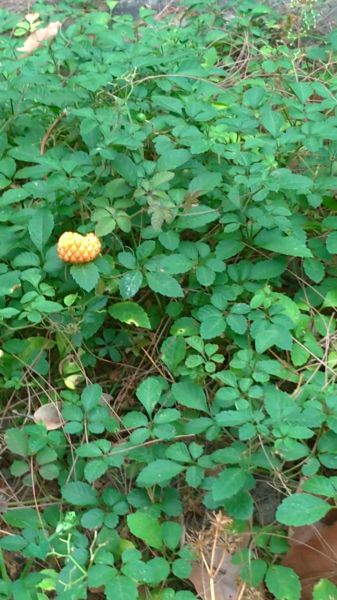eggs: (48, 224, 106, 270)
